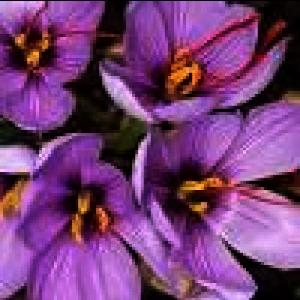Saffron: (132, 101, 300, 300), (0, 130, 138, 300), (107, 0, 286, 115), (0, 0, 105, 125)
